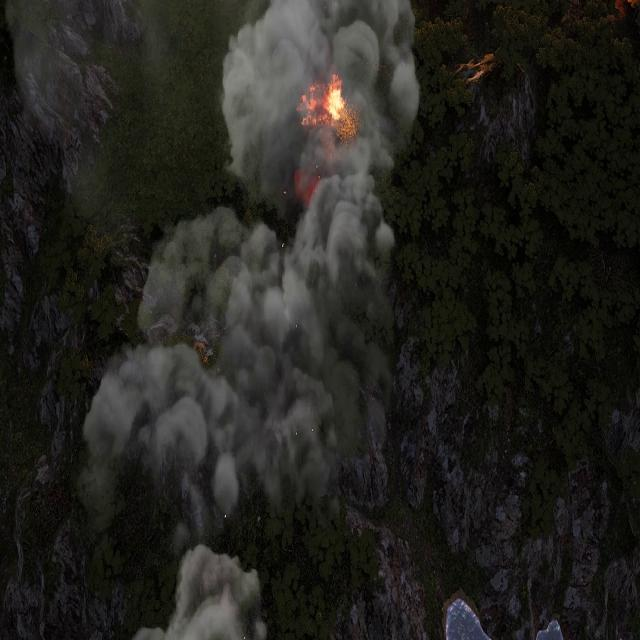fire: (300, 74, 352, 133)
smoke: (77, 0, 422, 553), (118, 539, 274, 640)
